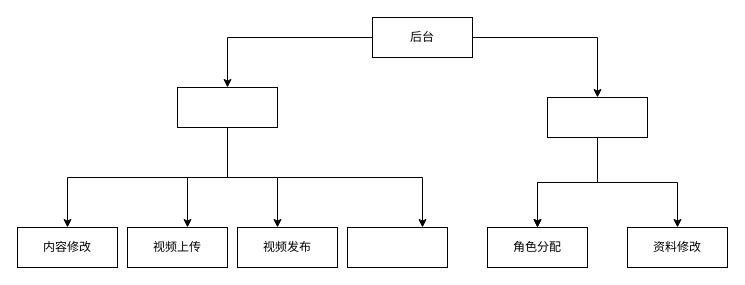
Image size: 745x285. Some labels were removed from this diagram. Here are the shapes that lost their labels. From the top down, the box of each, then its label:
(176, 86, 278, 128): 视频管理
(546, 96, 648, 138): 用户管理
(346, 226, 448, 268): 视频分类
